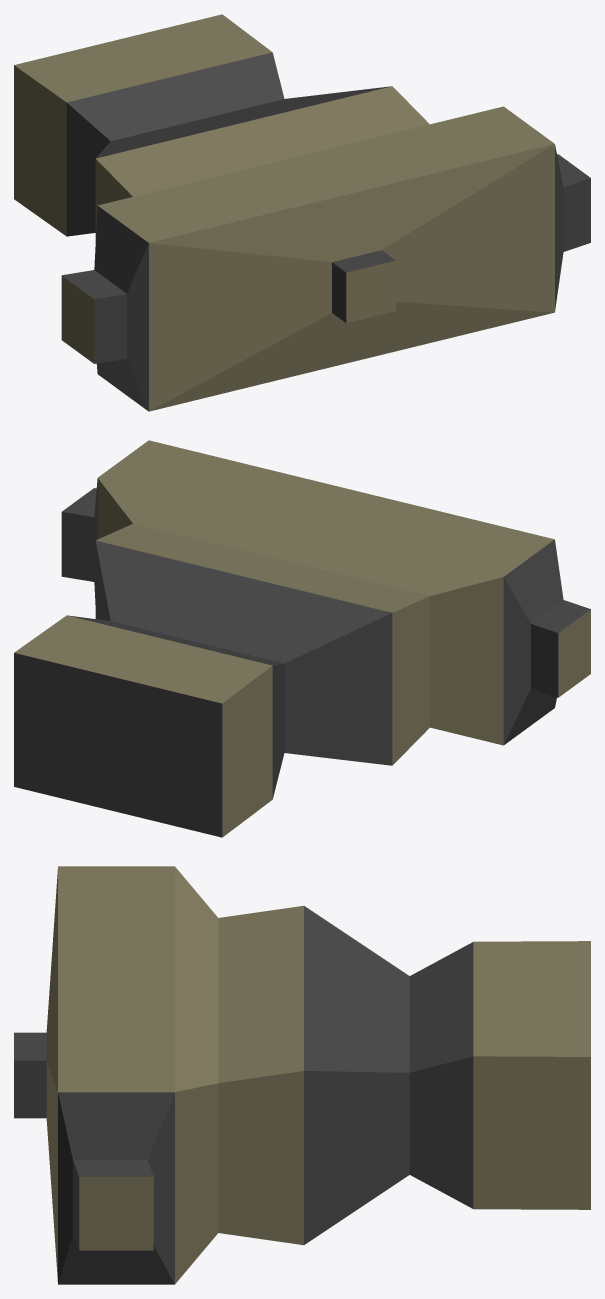
File: body2.obj
3 views of the same model, one above another, from view 1: azimuth 30°, elevation 25°; view 2: azimuth 150°, elevation 25°; view 3: azimuth 270°, elevation 25° (orthographic). The views are drawn at different scales.
Parts seen in each view (by area): view 1: MechBody2; view 2: MechBody2; view 3: MechBody2.
Boxes of the visible parts, box(x1,y1,x2,y2) form: MechBody2: box(14, 14, 590, 411); MechBody2: box(14, 440, 590, 837); MechBody2: box(14, 866, 590, 1284).
Bounding box in the file's own units: 5.06 × 1.64 × 4.46.
1 material, 1 textured.
